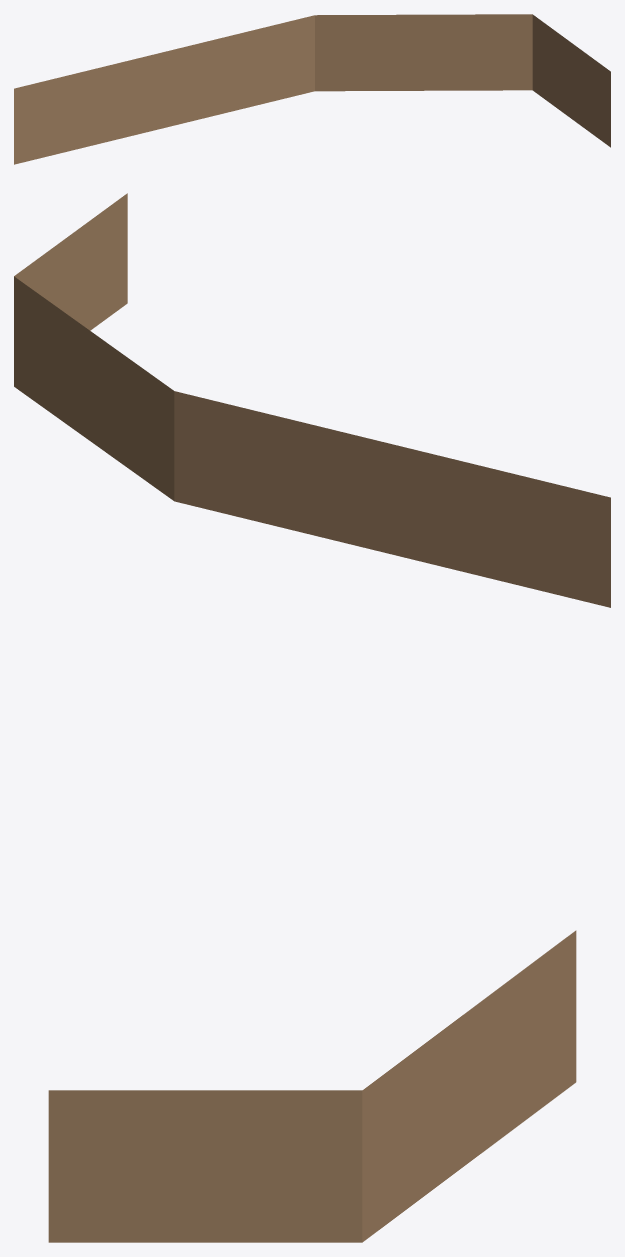
Rendered from 1422-Buildings-shell-pieces-facade-bay-wall-round-an-opening-reveals-sill-head-emitBa.glb.
3 renders of one model, top to bottom at view 1: azimuth 30°, elevation 25°; view 2: azimuth 150°, elevation 25°; view 3: azimuth 270°, elevation 25°, orthographic. The views are drawn at different scales.
Parts seen in each view (by area): view 1: emitBay; view 2: emitBay; view 3: emitBay.
Boxes of the visible parts, left/top/right/bottom form: emitBay: left=14, top=14, right=610, bottom=164; emitBay: left=14, top=193, right=610, bottom=607; emitBay: left=48, top=930, right=576, bottom=1242.
Size of the model in its own units: 19.5 by 3.05 by 9.58.
